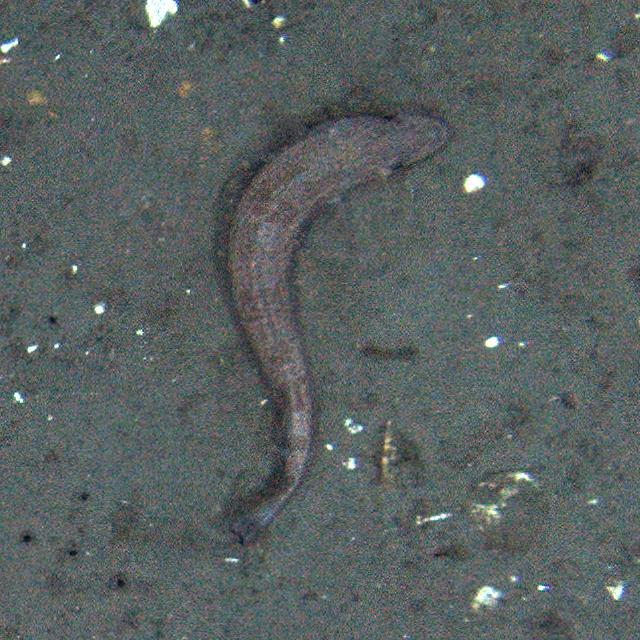roundfish: (185, 100, 455, 551)
